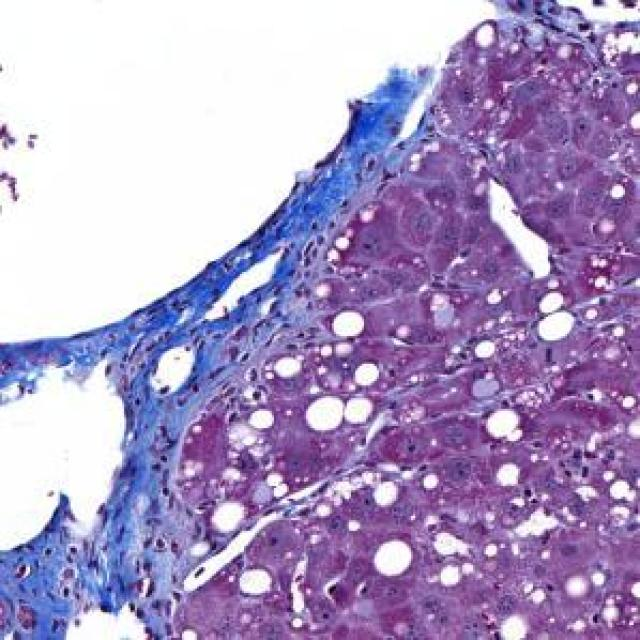fibrosis: (105, 300, 218, 584), (246, 162, 370, 330)
